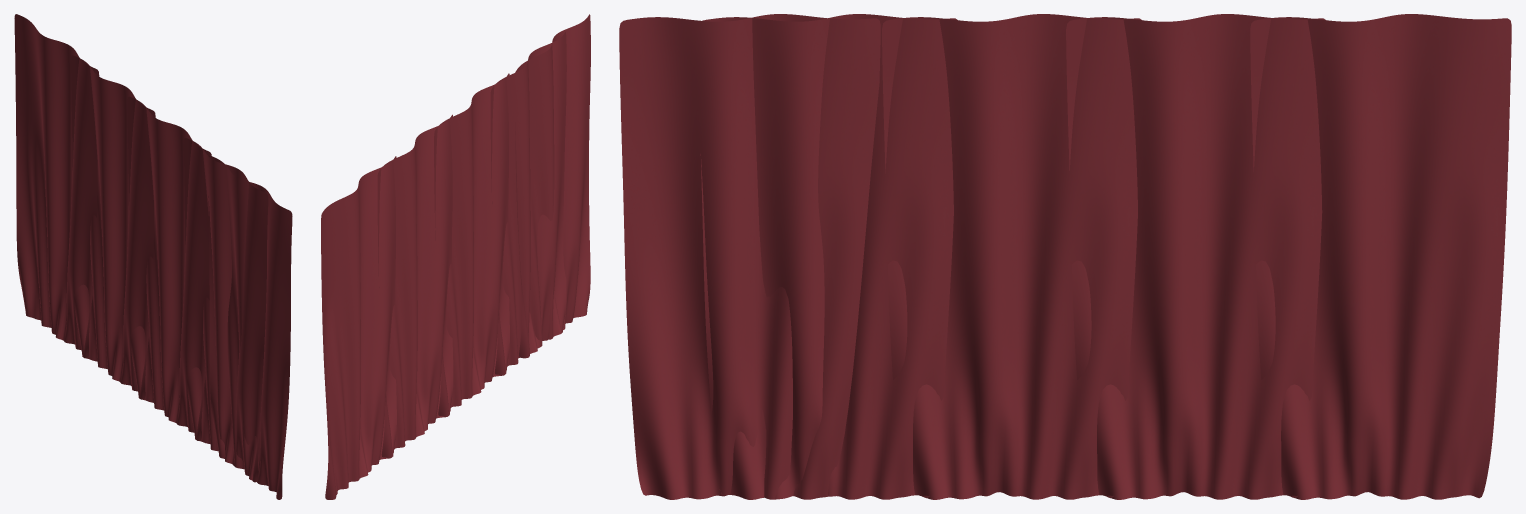
3 views of the same model, side by side, from view 1: azimuth 30°, elevation 25°; view 2: azimuth 150°, elevation 25°; view 3: azimuth 270°, elevation 25° (orthographic). The views are drawn at different scales.
Parts seen in each view (by area): view 1: for.002; view 2: for.002; view 3: for.002.
Boxes of the visible parts, x1,y1,x2,y2 form: for.002: [14, 14, 292, 499]; for.002: [321, 14, 590, 499]; for.002: [619, 14, 1511, 499].
Size of the model in its own units: 26.37 by 658 by 1109.
